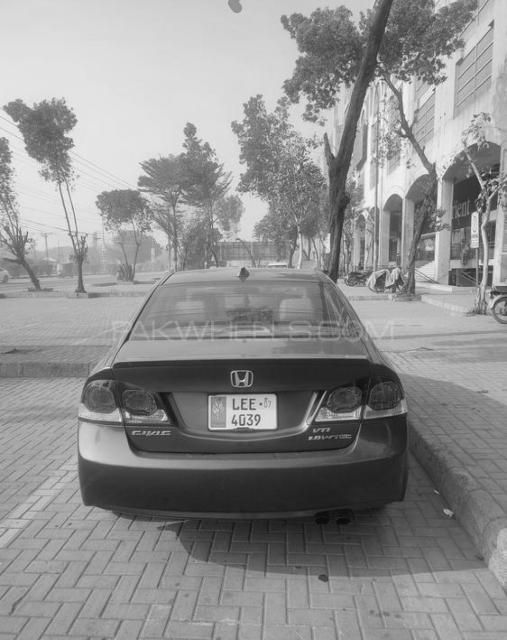Number: (228, 399, 264, 429)
